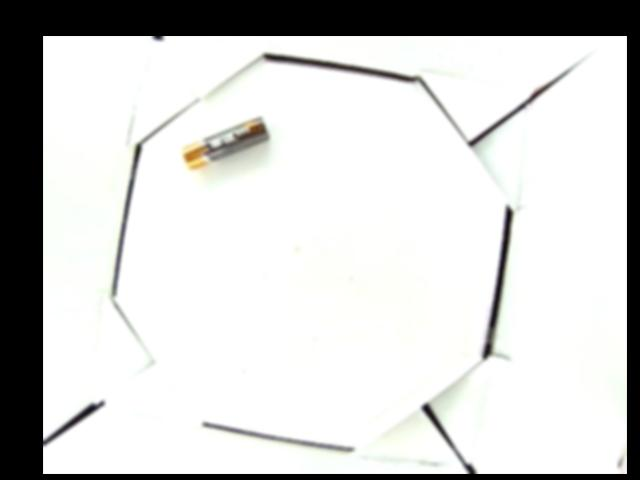Battery: (179, 116, 269, 169)
